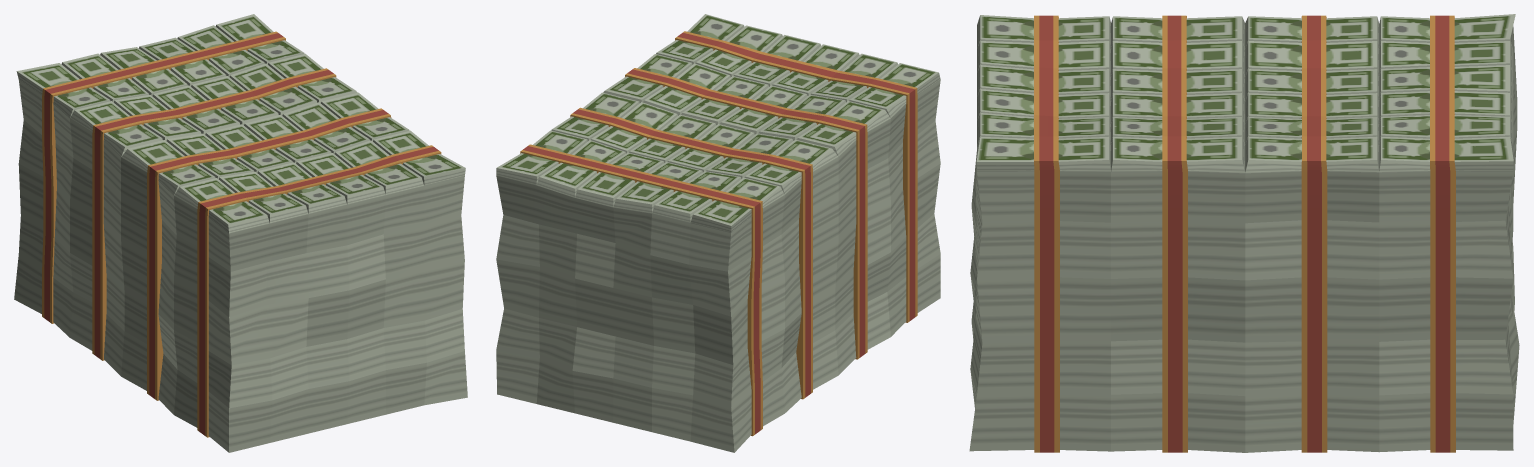
Rendered from SM_Prop_Money_Stack_09.obj.
The picture shows the model from 3 angles, left to right: view 1: azimuth 30°, elevation 25°; view 2: azimuth 150°, elevation 25°; view 3: azimuth 270°, elevation 25°; orthographic projection. The views are drawn at different scales.
Parts seen in each view (by area): view 1: SM_Prop_Money_Stack_09_0; view 2: SM_Prop_Money_Stack_09_0; view 3: SM_Prop_Money_Stack_09_0.
Boxes of the visible parts, box(x1,y1,x2,y2) form: SM_Prop_Money_Stack_09_0: box(14, 14, 467, 452); SM_Prop_Money_Stack_09_0: box(496, 14, 940, 452); SM_Prop_Money_Stack_09_0: box(969, 14, 1519, 452).
Bounding box in the file's own units: 0.7494 × 0.6752 × 1.15.
Materials: 1 (1 with a texture image).
